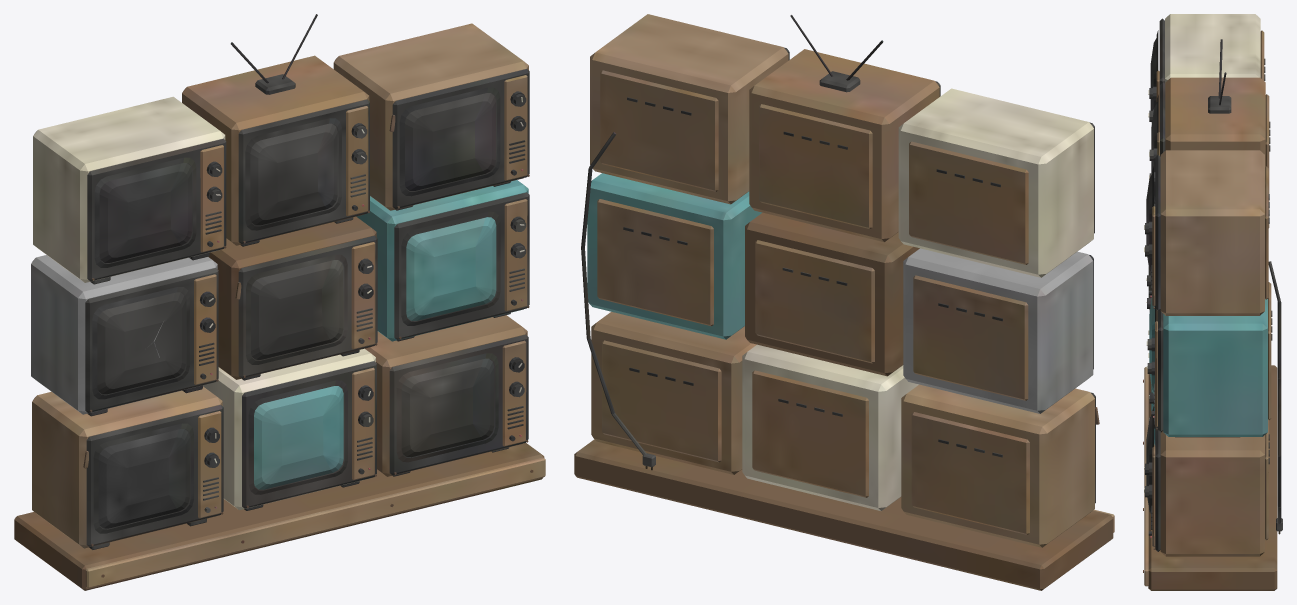
The model's file is W13_tv_shop_wall.glb.
3 views of the same model, side by side, from view 1: azimuth 30°, elevation 25°; view 2: azimuth 150°, elevation 25°; view 3: azimuth 270°, elevation 25° (orthographic). The views are drawn at different scales.
Visible parts, largest first — view 1: Low timber display plinth; view 2: Low timber display plinth; view 3: Low timber display plinth.
Boxes of the visible parts, x1,y1,x2,y2 form: Low timber display plinth: (14, 14, 545, 590); Low timber display plinth: (574, 14, 1114, 590); Low timber display plinth: (1143, 14, 1282, 590).
Bounding box in the file's own units: 2.5 × 2.48 × 0.7193.
Materials: 12 (12 with a texture image).
